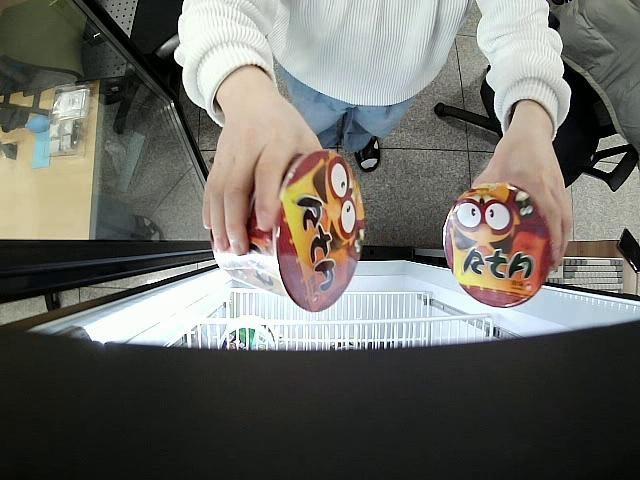05_nuguri_L: (206, 150, 364, 312), (442, 182, 554, 309)
